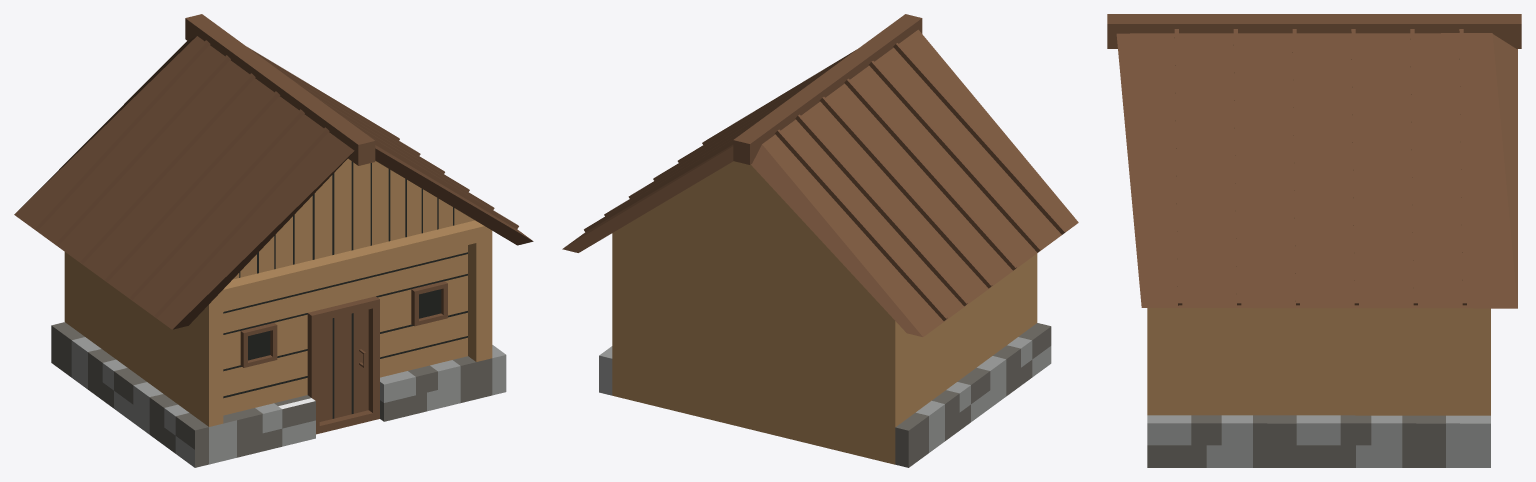
Rendered from medieval7.fbx.
3 views of the same model, side by side, from view 1: azimuth 30°, elevation 25°; view 2: azimuth 150°, elevation 25°; view 3: azimuth 270°, elevation 25° (orthographic). The views are drawn at different scales.
Visible parts, largest first — view 1: Cube.021; view 2: Cube.021; view 3: Cube.021.
Boxes of the visible parts, left/top/right/bottom form: Cube.021: left=14, top=14, right=533, bottom=467; Cube.021: left=562, top=14, right=1078, bottom=467; Cube.021: left=1107, top=14, right=1521, bottom=467.
Size of the model in its own units: 5135 by 4022 by 4219.
